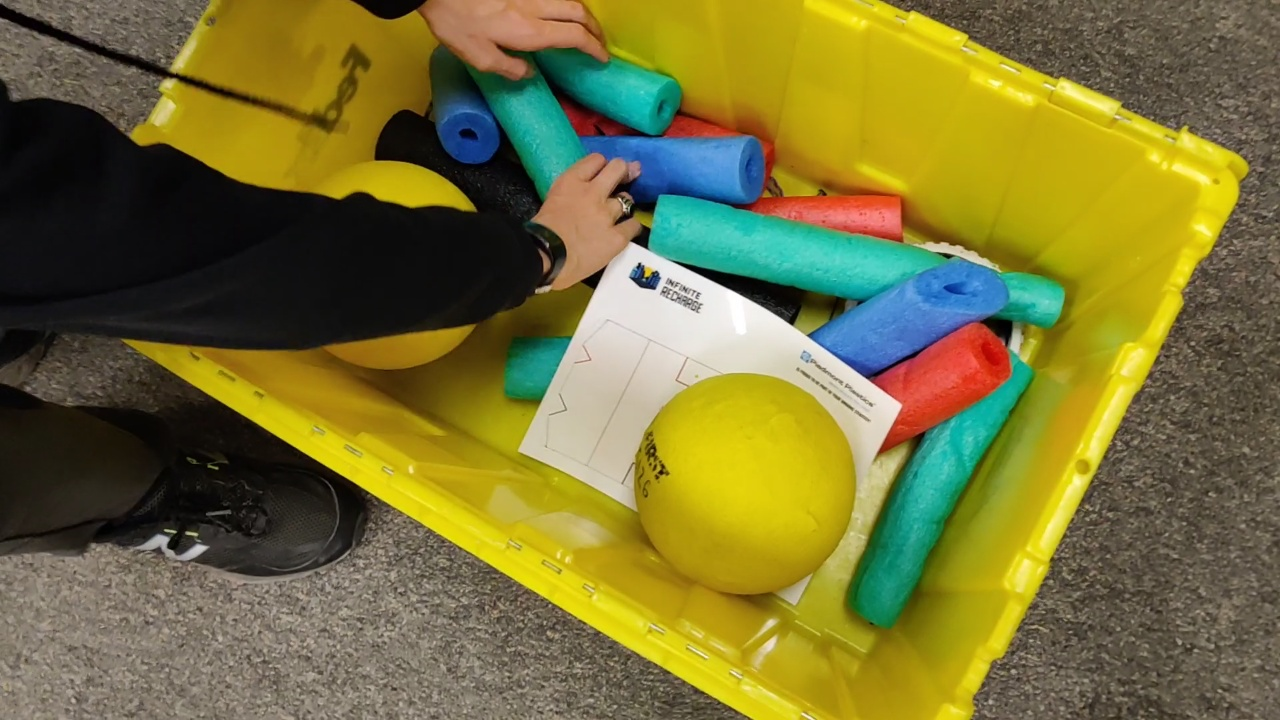Ball: (636, 374, 858, 592)
